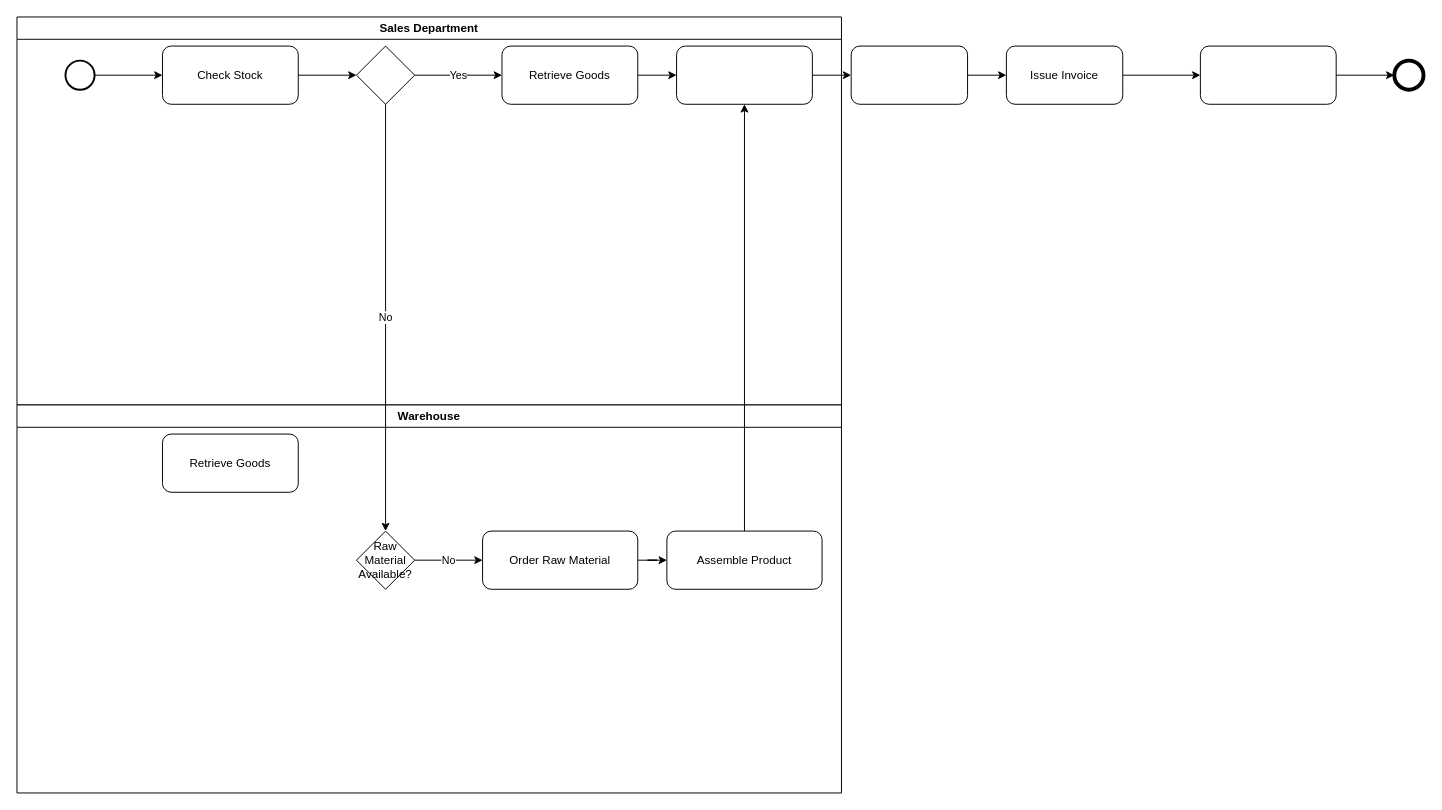
The diagram is 1442 pixels wide and 810 high, and some of its shapes have lost their labels. The shapes that lost their labels are listed below. From the top down, each one's centre as x and y in pixels, then its label:
pixel 385 74: Goods in Stock?
pixel 744 74: Confirm Order
pixel 909 74: Ship Goods
pixel 1267 74: Receive Payment
